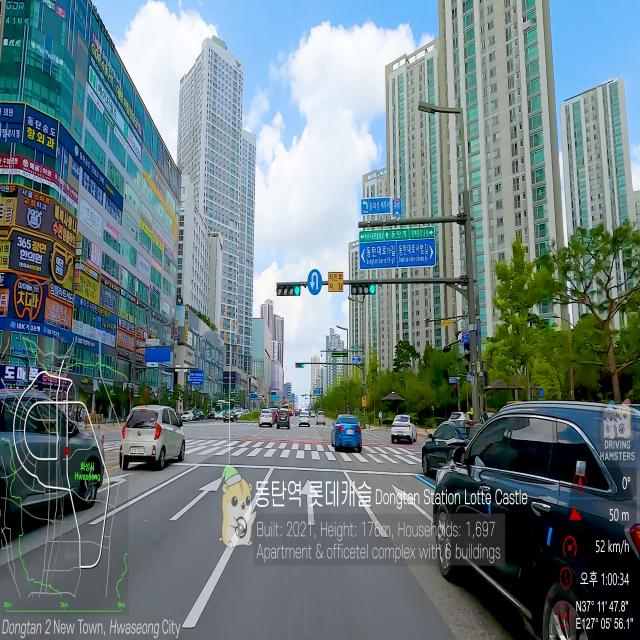Green Light: (369, 283, 376, 294), (294, 284, 300, 296), (302, 363, 304, 368)
